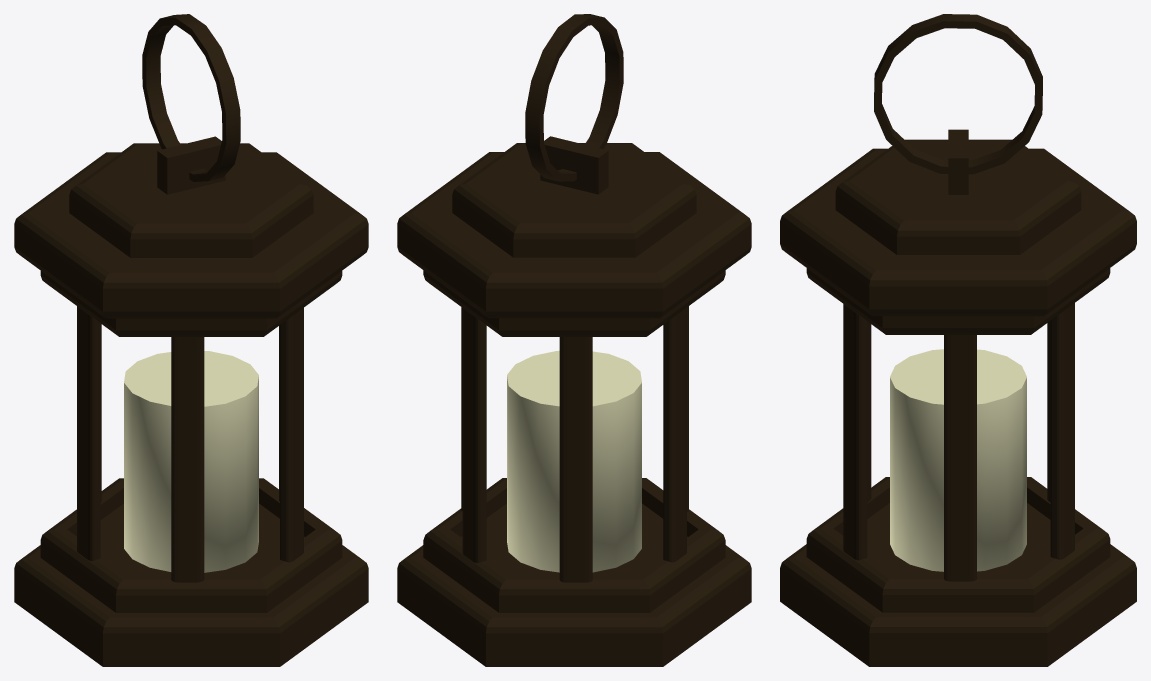
File: obj_lantern1.fbx
3 renders of one model, left to right at view 1: azimuth 30°, elevation 25°; view 2: azimuth 150°, elevation 25°; view 3: azimuth 270°, elevation 25°, orthographic.
Visible parts, largest first — view 1: Lampara; view 2: Lampara; view 3: Lampara.
Boxes of the visible parts, bbox=[...] form: Lampara: bbox=[14, 14, 368, 666]; Lampara: bbox=[397, 14, 751, 666]; Lampara: bbox=[780, 14, 1136, 666].
Size of the model in its own units: 0.3148 by 0.6564 by 0.3634.
